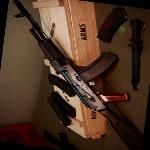Senapan: (10, 0, 144, 150)
